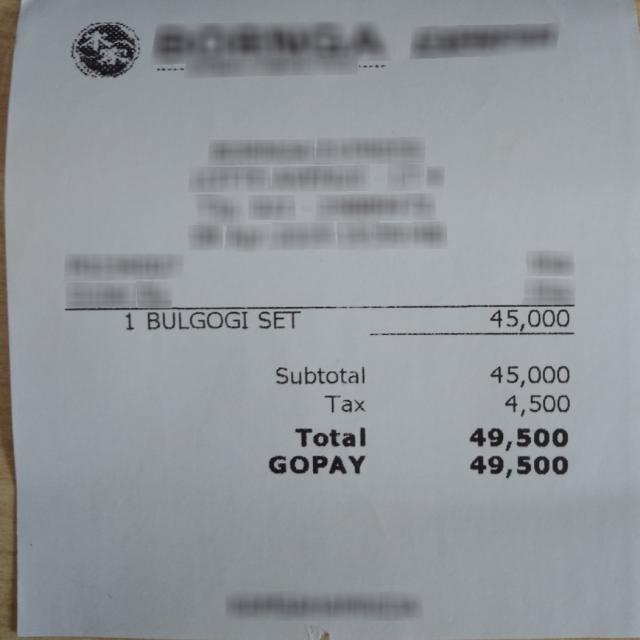text: (152, 307, 250, 332), (482, 304, 572, 330), (468, 427, 567, 449), (469, 455, 566, 476), (490, 363, 569, 386), (268, 455, 364, 473), (276, 366, 362, 384), (293, 425, 364, 446), (504, 394, 568, 416), (323, 394, 364, 414), (257, 311, 300, 327), (120, 309, 140, 332)
